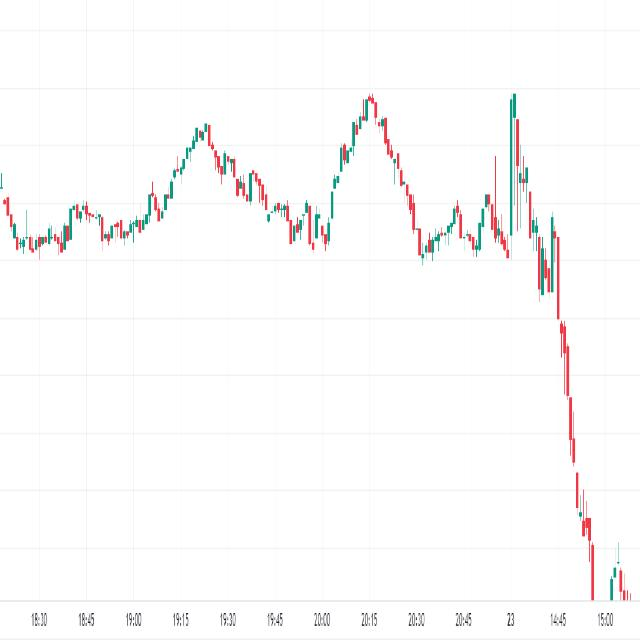Rounding-Bottom: (325, 81, 422, 233)
